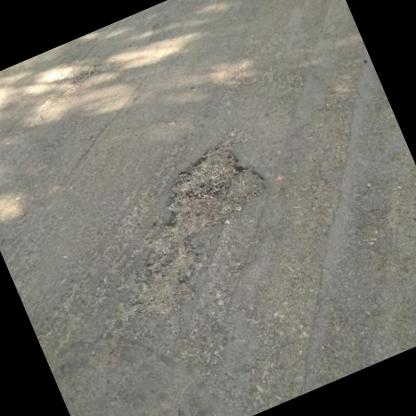pothole: (143, 132, 277, 252), (114, 240, 218, 327), (54, 65, 100, 97)
